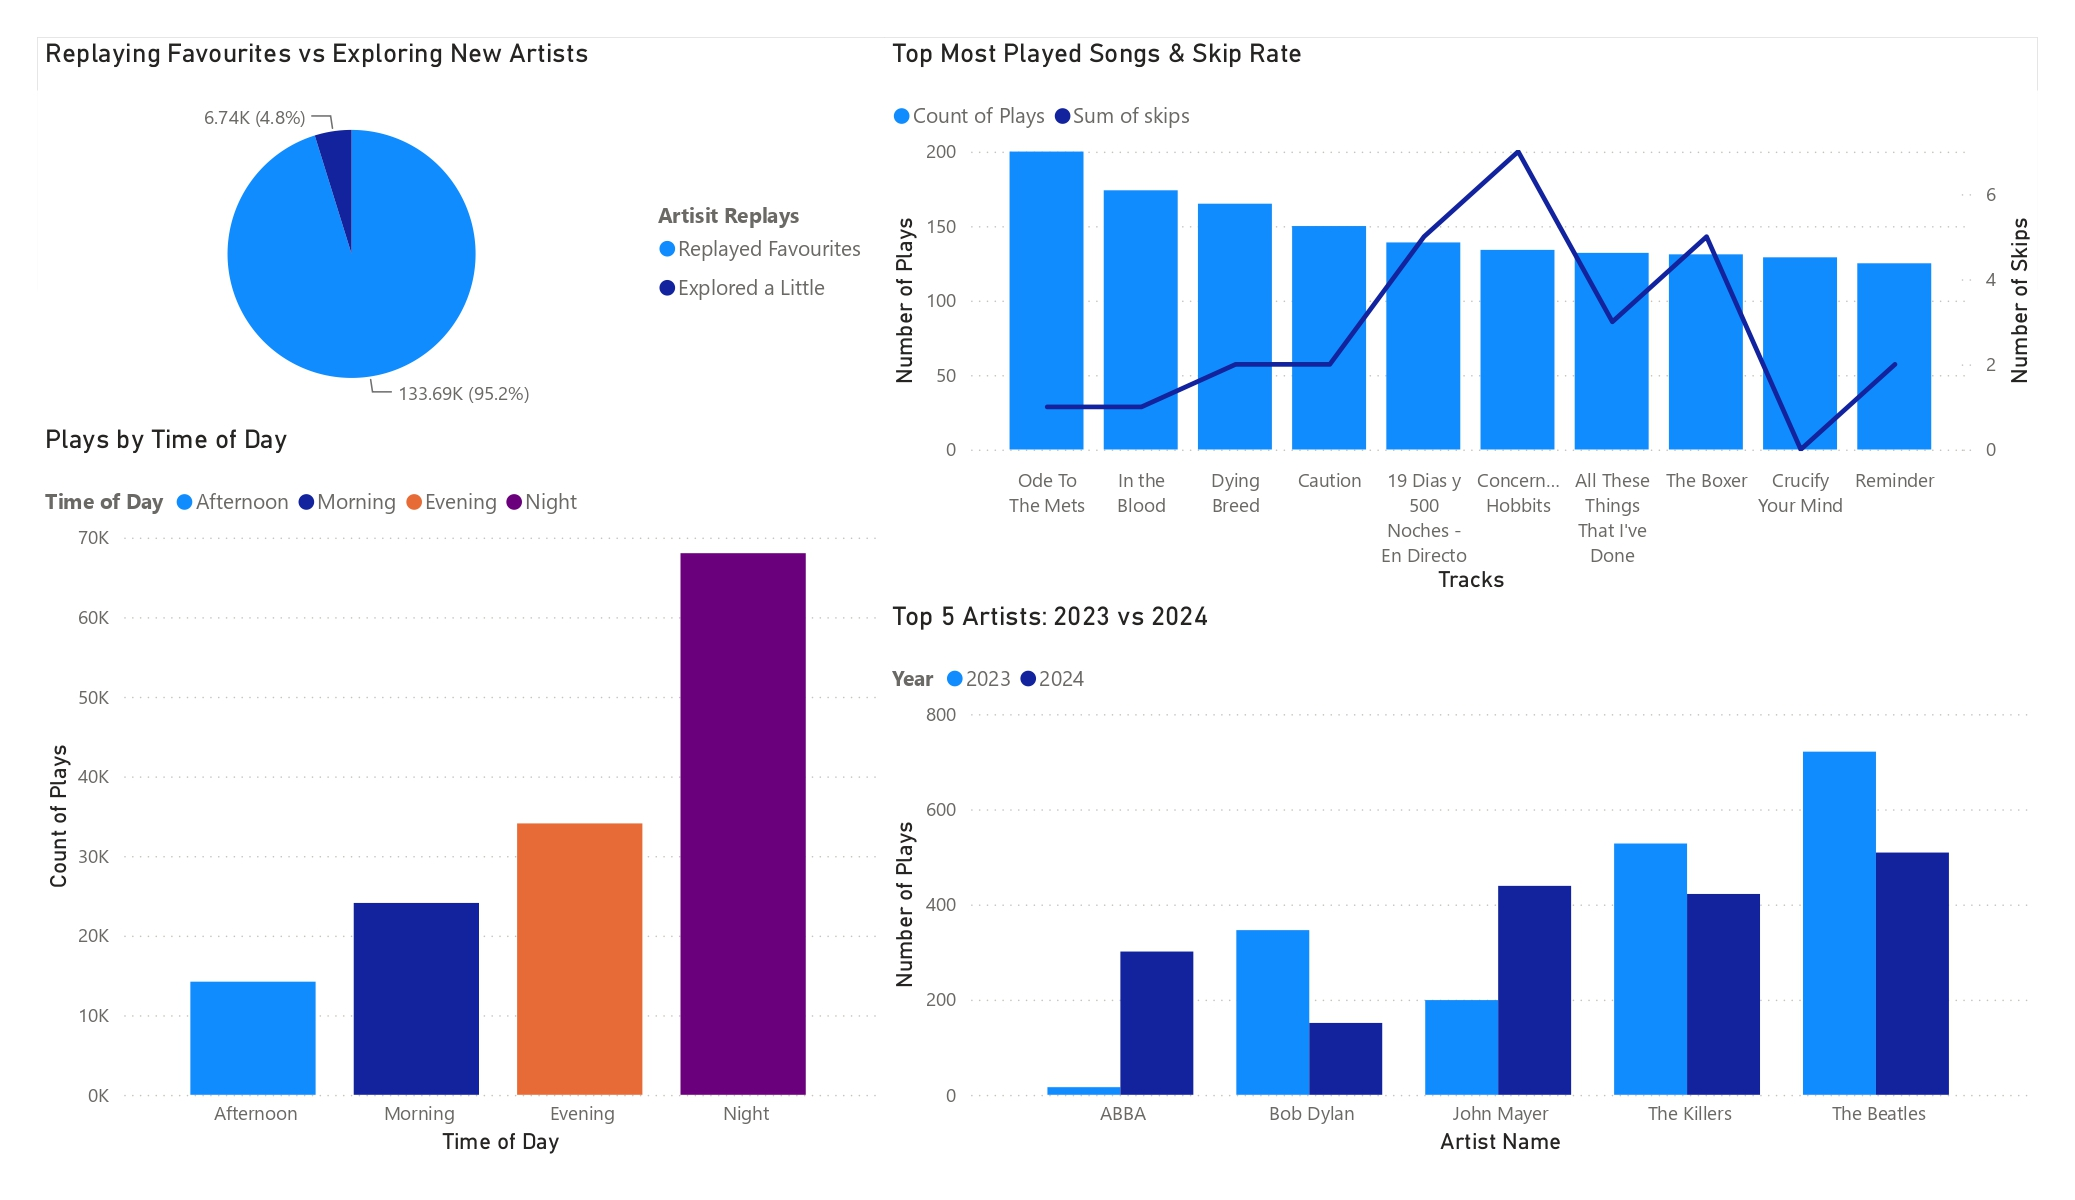

The dashboard page shown, as its layout file describes it:
{"tool":"powerbi","page":{"name":"Page 1","canvas":[1280,720],"ordinal":0},"visuals":[{"type":"clusteredColumnChart","title":"Top 5 Artists: 2023 vs 2024","fields":{"Category":["spotify_history.artist_name"],"Y":["CountNonNull(spotify_history.Plays)"],"Series":["spotify_history.ts.Variation.Date Hierarchy.Year"]},"box":[541.7,360,738.3,360],"z":0},{"type":"lineClusteredColumnComboChart","title":"Top  Most Played Songs & Skip Rate","fields":{"Category":["spotify_history.track_name"],"Y":["CountNonNull(spotify_history.Plays)"],"Y2":["Sum(spotify_history.skips)"]},"box":[542,0,738,360],"z":1000},{"type":"columnChart","title":"Plays by Time of Day","fields":{"Y":["CountNonNull(spotify_history.Plays)"],"Category":["spotify_history.Hour of Day","spotify_history.Time of Day"],"Series":["spotify_history.Time of Day"]},"box":[0,246.7,541.7,473.3],"z":1001},{"type":"pieChart","title":"Replaying Favourites vs Exploring New Artists","fields":{"Category":["spotify_history.Artisit Replays"],"Y":["CountNonNull(spotify_history.Plays)"]},"box":[0,0,541.7,246.7],"z":1002}]}

Visuals, with their boxes on the page's 1280x720 design canvas (x1, y1, x2, y2). These are canvas units, not pixel positions in the 2075x1200 screenshot, which may show the page scaled, cropped or inside an application window:
"Top 5 Artists: 2023 vs 2024" clusteredColumnChart: rect(542, 360, 1280, 720)
"Top  Most Played Songs & Skip Rate" lineClusteredColumnComboChart: rect(542, 0, 1280, 360)
"Plays by Time of Day" columnChart: rect(0, 247, 542, 720)
"Replaying Favourites vs Exploring New Artists" pieChart: rect(0, 0, 542, 247)
